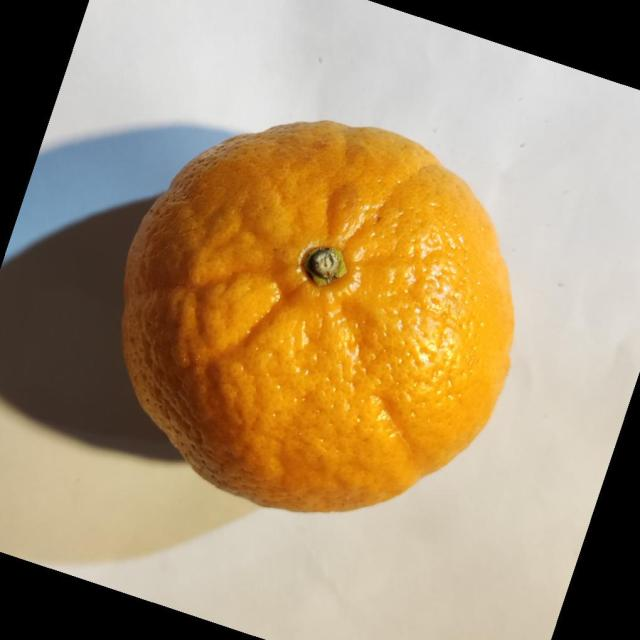fresh orange: (120, 118, 515, 514)
